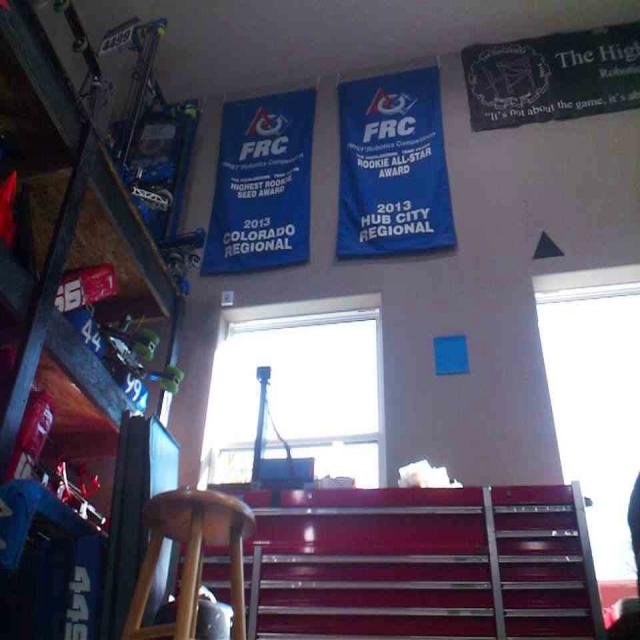square_blue: (431, 333, 468, 377)
triangle_black: (530, 228, 563, 260)
